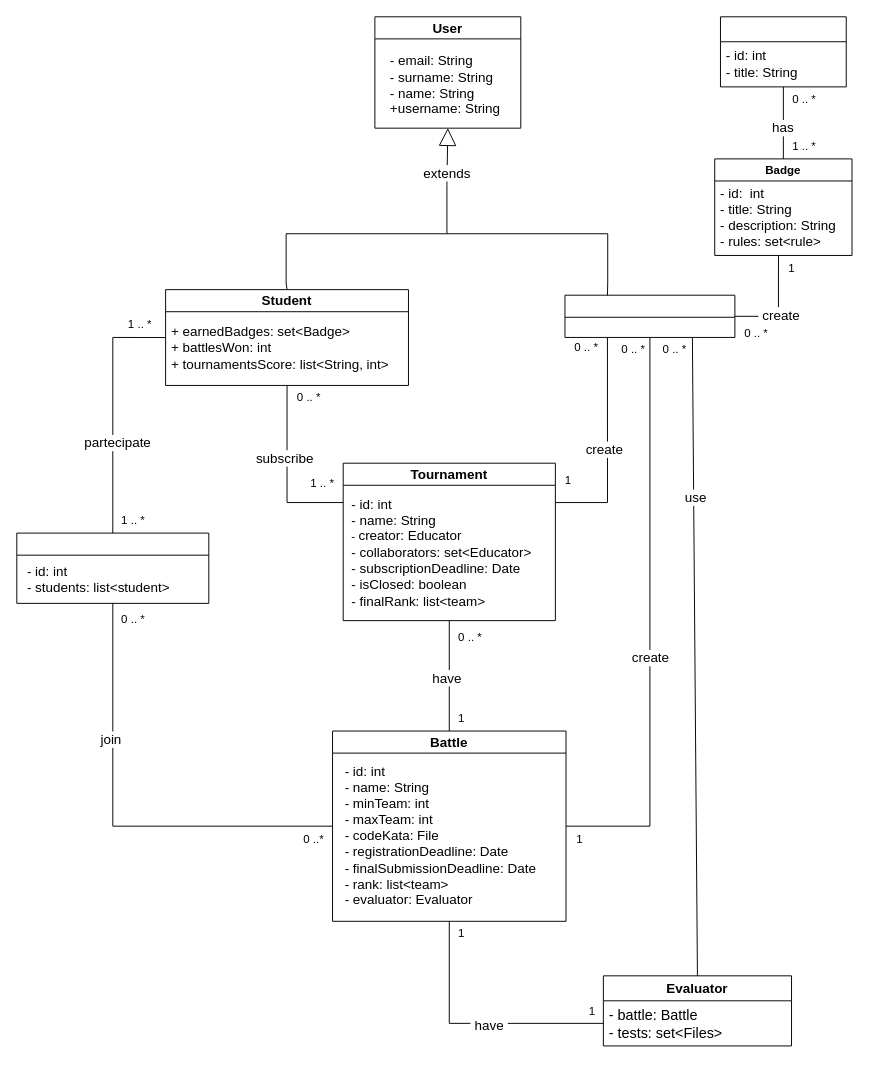
Image size: 869x1066. Some labels were removed from this diagram. The shapes that lost their labels are listed below. From the top down, each one's box as (x1, y1, x2, y2) in pixels, then its label:
(720, 16, 846, 87): Rule
(564, 294, 735, 337): Educator
(16, 532, 209, 603): Team
